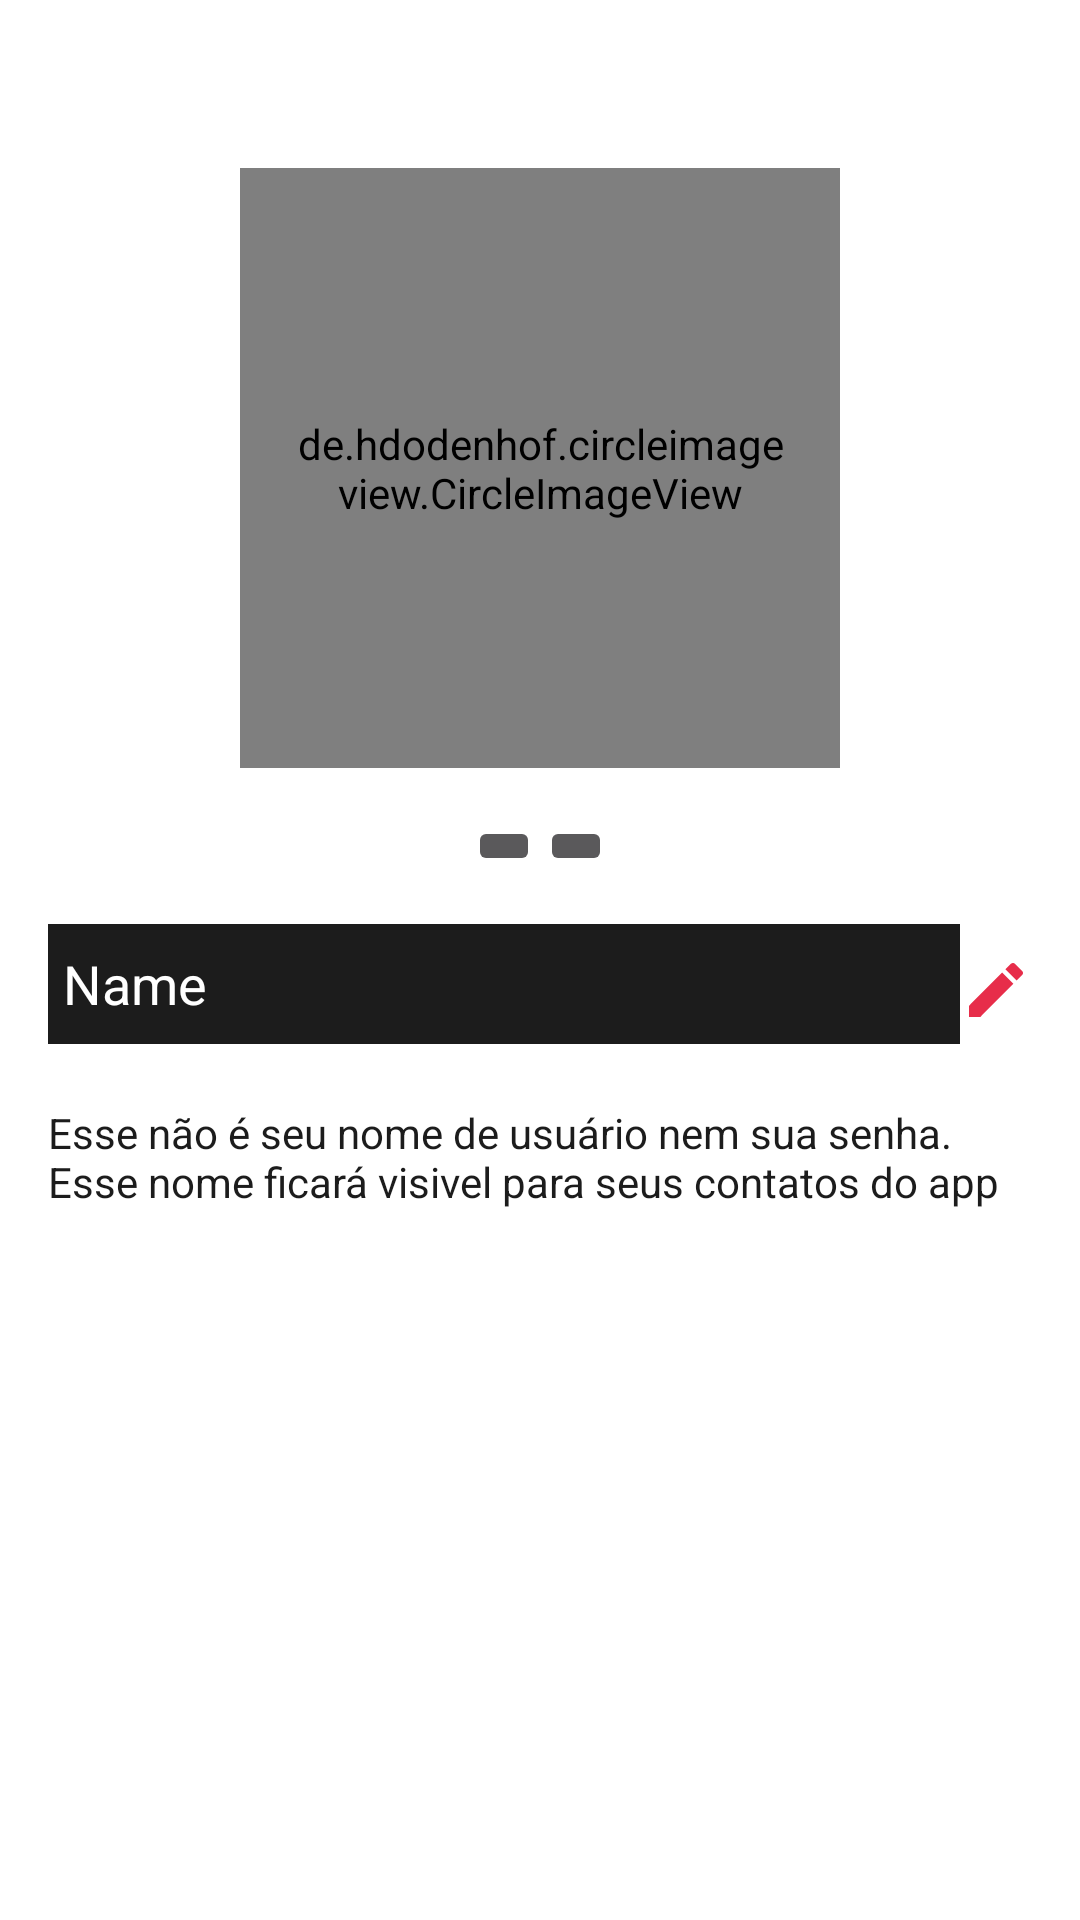

Named icons in this screenshot (1080w x 1920h) and their centers, point (x, y):
edit: point (996, 990)
